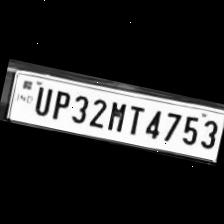2: (85, 94, 108, 130)
3: (196, 114, 220, 151), (66, 90, 90, 124)
4: (140, 104, 164, 140)
5: (176, 110, 201, 146)
7: (157, 107, 180, 143)
M: (102, 97, 128, 133)
P: (48, 86, 72, 120)
T: (122, 100, 146, 136)
U: (28, 82, 54, 116)
